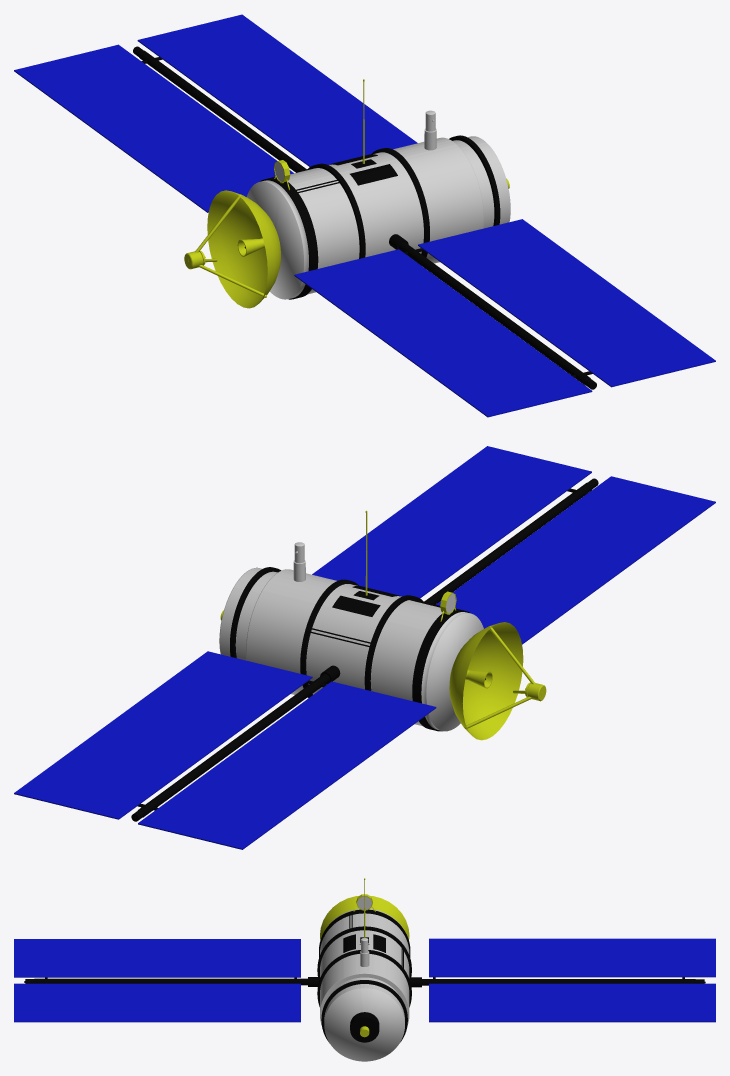
Rendered from satellite.obj.
3 views of the same model, one above another, from view 1: azimuth 30°, elevation 25°; view 2: azimuth 150°, elevation 25°; view 3: azimuth 270°, elevation 25° (orthographic). The views are drawn at different scales.
Visible parts, largest first — view 1: panel1, panel2, body; view 2: panel2, panel1, body; view 3: panel2, panel1, body, Cylinder.
Part boxes in pixels (<box>): panel1: <box>294,219,715,417</box>; panel2: <box>14,14,417,212</box>; body: <box>184,79,510,308</box>; panel2: <box>14,651,436,849</box>; panel1: <box>312,446,715,644</box>; body: <box>219,510,546,740</box>; panel2: <box>409,938,715,1022</box>; panel1: <box>14,939,320,1022</box>; body: <box>317,878,411,1061</box>; Cylinder: <box>350,1012,379,1042</box>.
Size of the model in its own units: 6.09 by 3.82 by 15.67.
